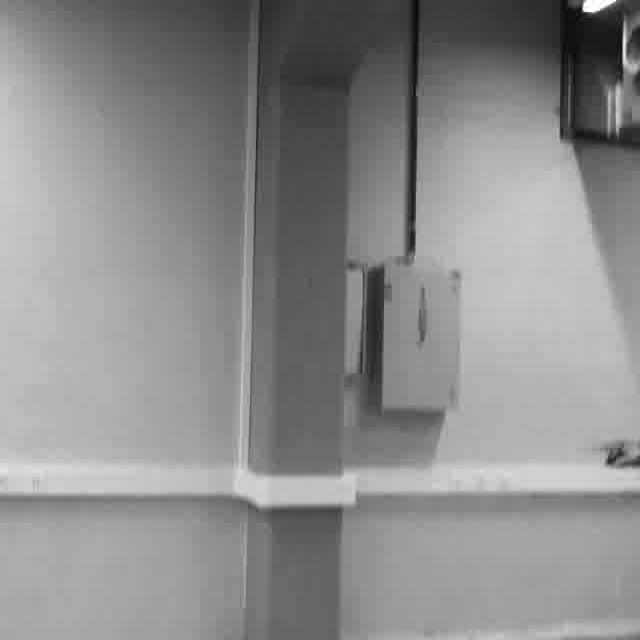drones: (593, 430, 640, 491)
